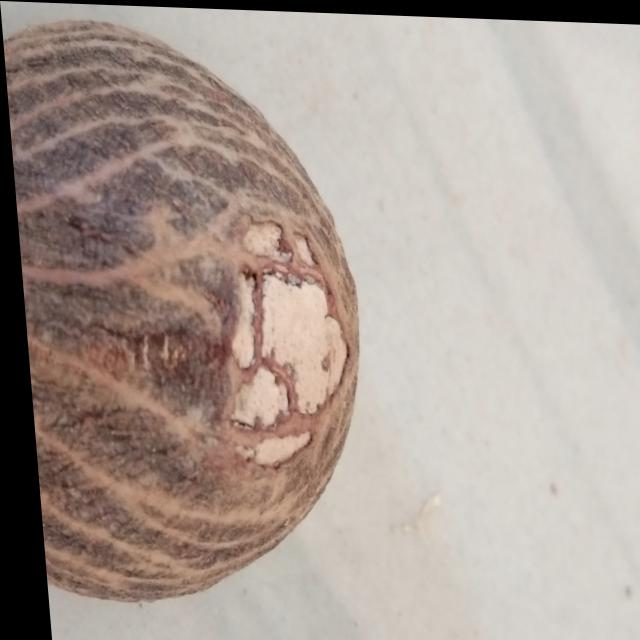karigot: (1, 17, 373, 602)
